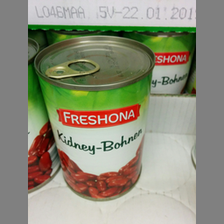beans: (37, 39, 180, 218), (150, 36, 213, 111)
